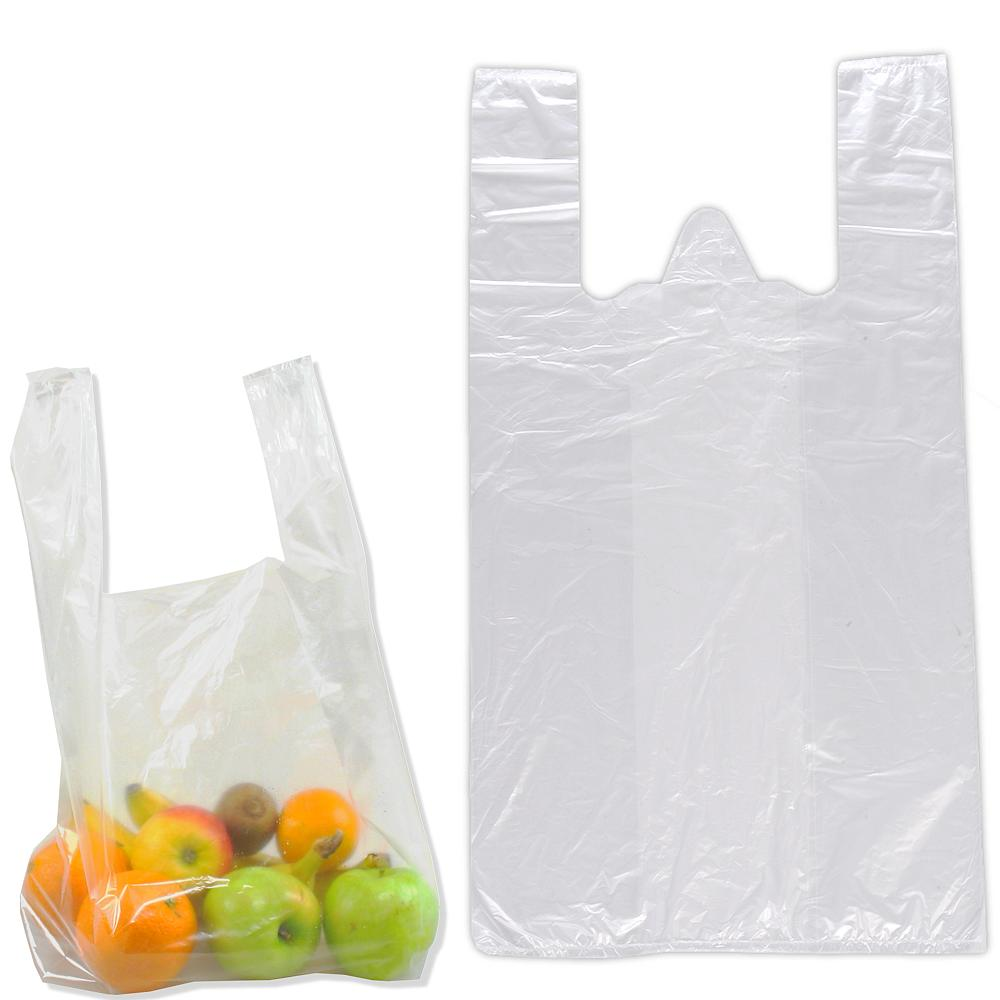LDPE: (466, 62, 989, 956), (16, 354, 418, 788)
